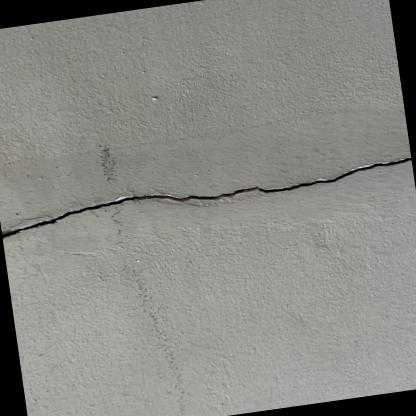crack: (1, 156, 411, 239)
